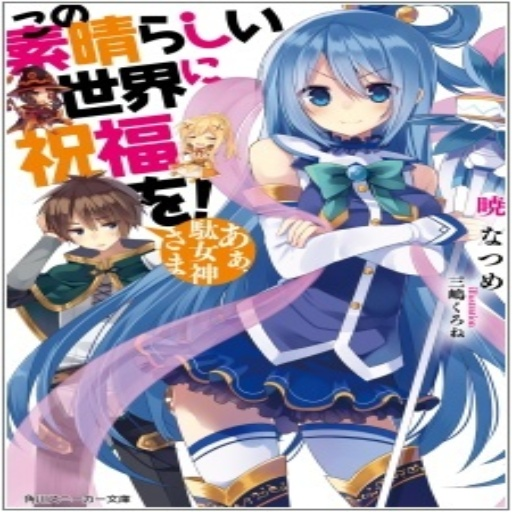hand: (270, 205, 336, 239), (439, 208, 496, 242), (34, 208, 61, 239)
